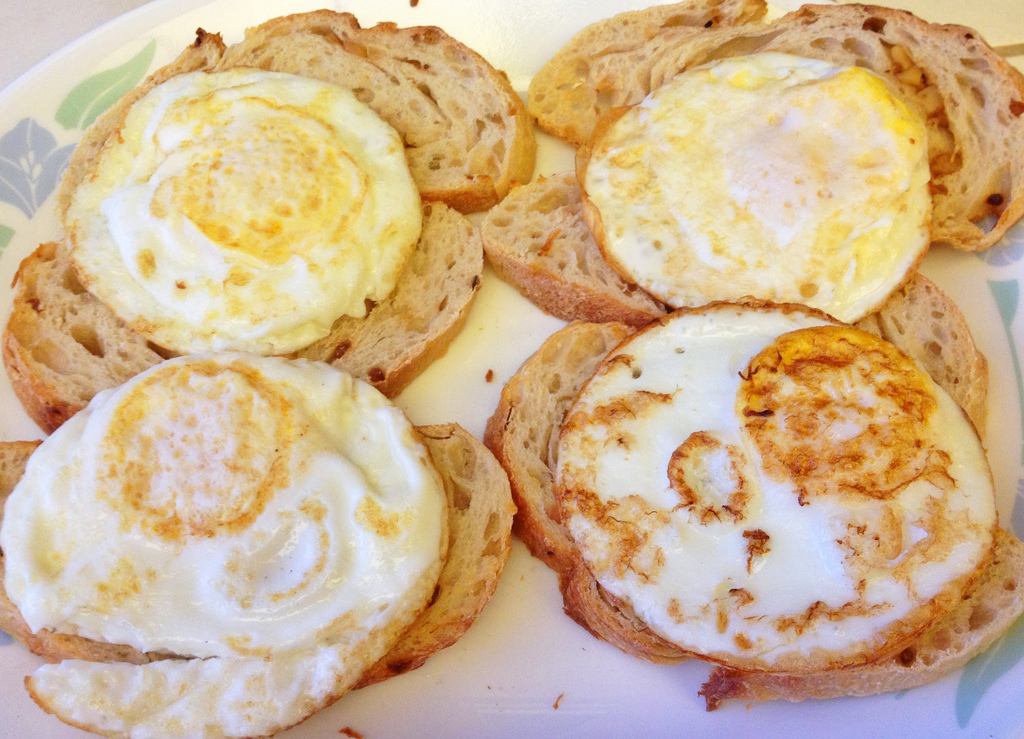fried egg: (591, 317, 948, 639), (58, 381, 404, 662), (611, 86, 910, 313), (134, 90, 394, 329)
slice of bread: (502, 316, 1024, 693), (1, 426, 493, 690), (520, 1, 1024, 224), (12, 250, 484, 427), (158, 8, 531, 211)
